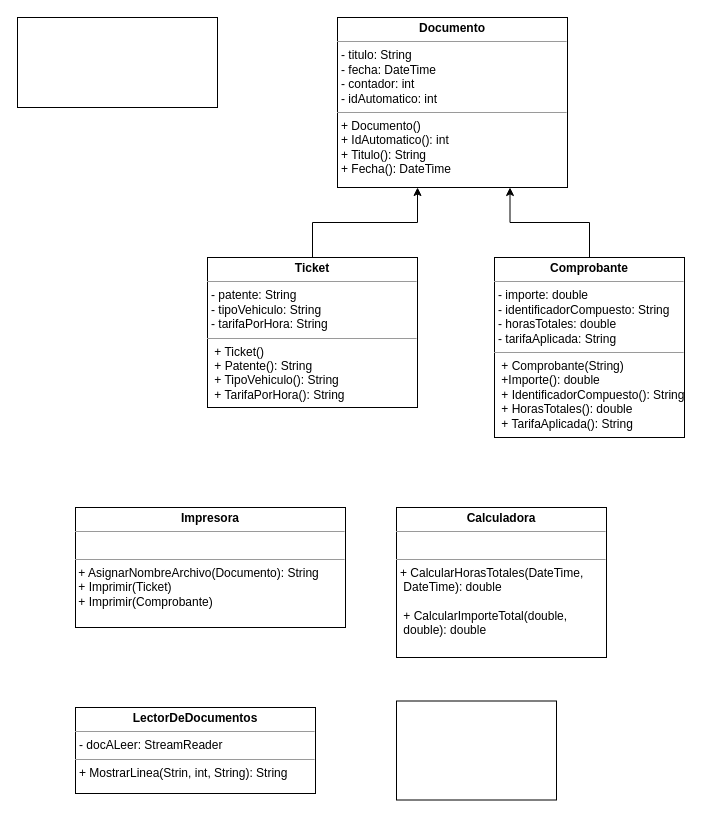
The diagram is 702 pixels wide and 818 high, and some of its shapes have lost their labels. Each missing label, with the centre of its shape:
Tarifa - precioHora: double + Tarifa(String) + PrecioHora(): double: the point at 476,750
ValidadorDeUsuarioYPassword + Validador(String, String): bool: the point at 117,62
